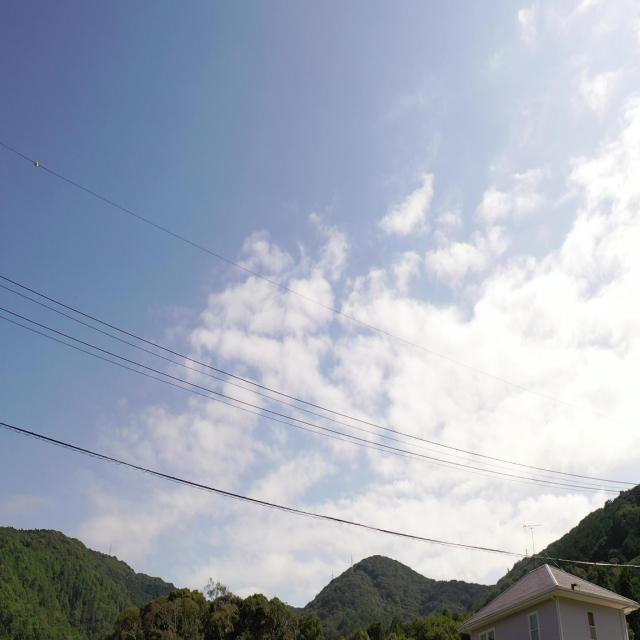Birds: (564, 574, 588, 598)
